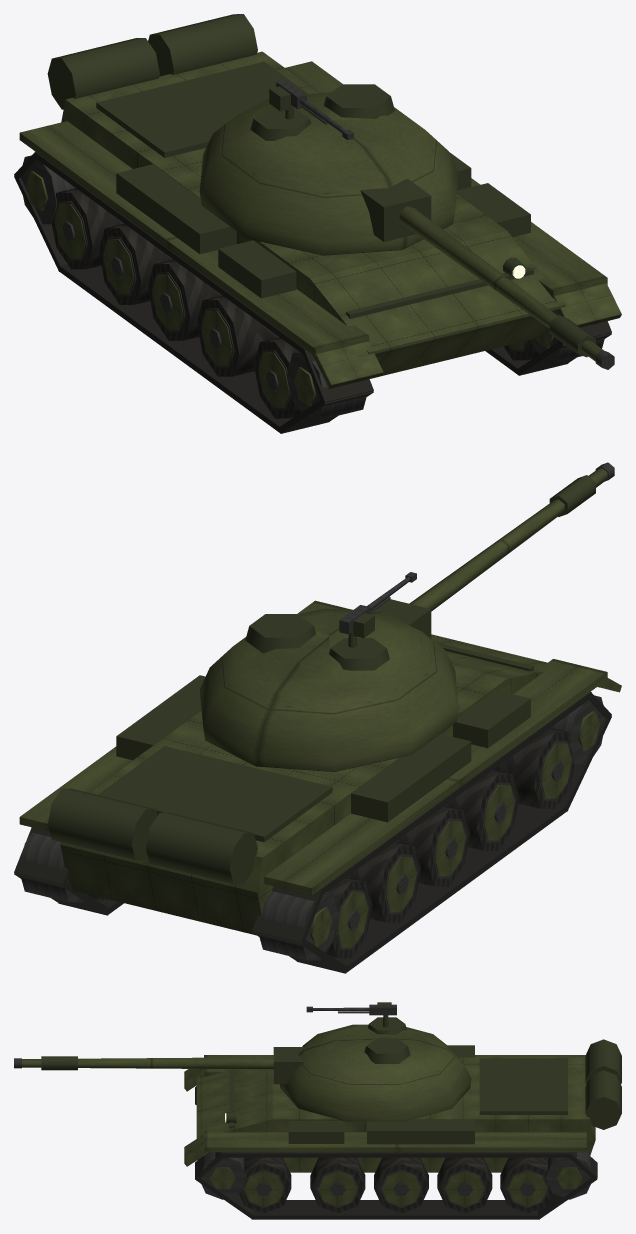
3 views of the same model, one above another, from view 1: azimuth 30°, elevation 25°; view 2: azimuth 150°, elevation 25°; view 3: azimuth 270°, elevation 25° (orthographic). The views are drawn at different scales.
Visible parts, largest first — view 1: T54_55_MBT; view 2: T54_55_MBT; view 3: T54_55_MBT.
Part boxes in pixels (x1,y1,x2,y2): T54_55_MBT: (14,14,621,433); T54_55_MBT: (14,462,621,973); T54_55_MBT: (14,1002,621,1219).
Size of the model in its own units: 3.34 by 2.67 by 9.29.
6 materials, 3 textured.
